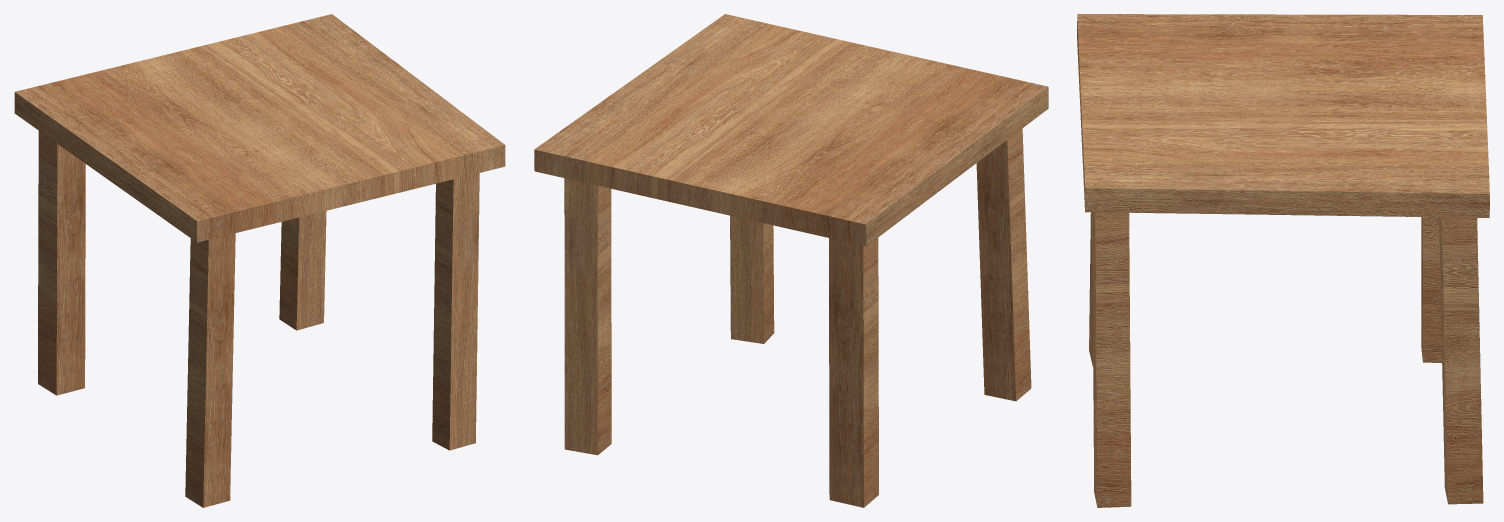
Rendered from 19416_ours.glb.
3 renders of one model, left to right at view 1: azimuth 30°, elevation 25°; view 2: azimuth 150°, elevation 25°; view 3: azimuth 270°, elevation 25°, orthographic. The views are drawn at different scales.
Parts seen in each view (by area): view 1: ParentEmpty; view 2: ParentEmpty; view 3: ParentEmpty.
Boxes of the visible parts, x1,y1,x2,y2 form: ParentEmpty: (14,14,505,507); ParentEmpty: (534,14,1048,507); ParentEmpty: (1077,14,1489,507).
Bounding box in the file's own units: 1 × 0.8899 × 0.9909.
Materials: 1 (1 with a texture image).
